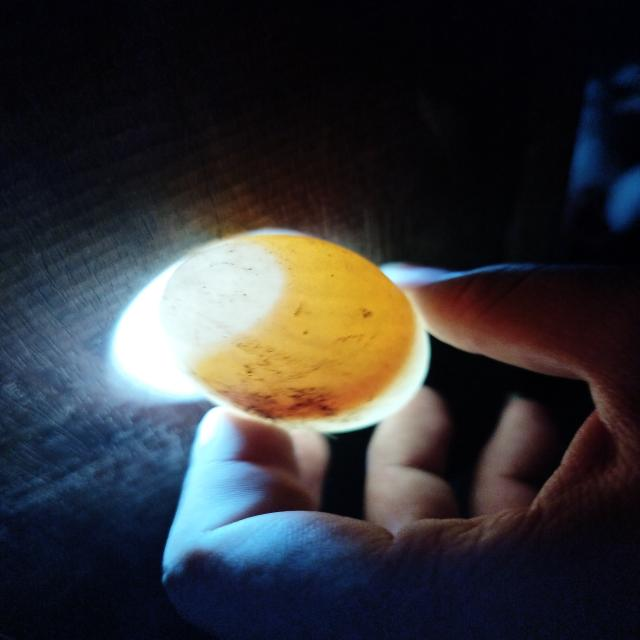Camara de Ar: (159, 243, 282, 344)
Gema Quebrada: (210, 374, 383, 422)
